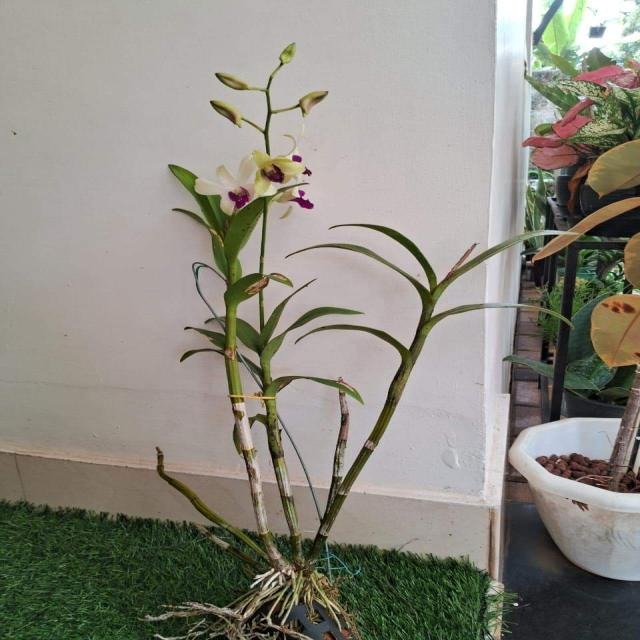flower: (202, 164, 253, 210), (249, 151, 305, 183)
leaf: (433, 231, 540, 302), (329, 223, 437, 292), (306, 321, 410, 362), (223, 195, 268, 266), (275, 374, 364, 403), (280, 306, 364, 335), (230, 314, 259, 351)
plant: (133, 11, 618, 638)
pot: (496, 408, 639, 585)
root: (145, 569, 310, 640), (306, 595, 341, 632)
stem: (321, 315, 439, 539), (223, 298, 280, 568), (156, 448, 271, 561), (260, 343, 303, 570), (326, 392, 349, 510), (225, 298, 244, 405), (223, 308, 243, 404), (255, 276, 287, 335), (259, 198, 272, 270), (404, 274, 429, 296), (259, 107, 272, 144), (228, 258, 241, 290), (227, 260, 239, 294), (233, 550, 255, 564), (212, 102, 233, 114), (280, 48, 293, 66)
